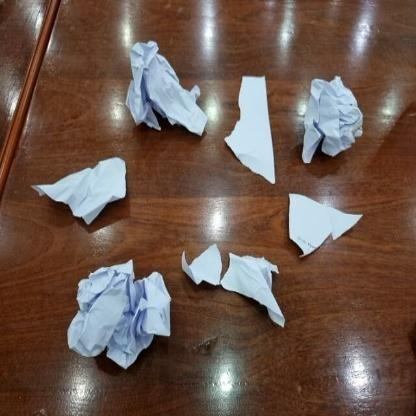trash: (67, 254, 175, 374), (177, 244, 292, 334), (122, 36, 214, 148), (219, 73, 296, 187), (30, 155, 136, 229), (297, 76, 368, 168), (282, 189, 365, 261)
